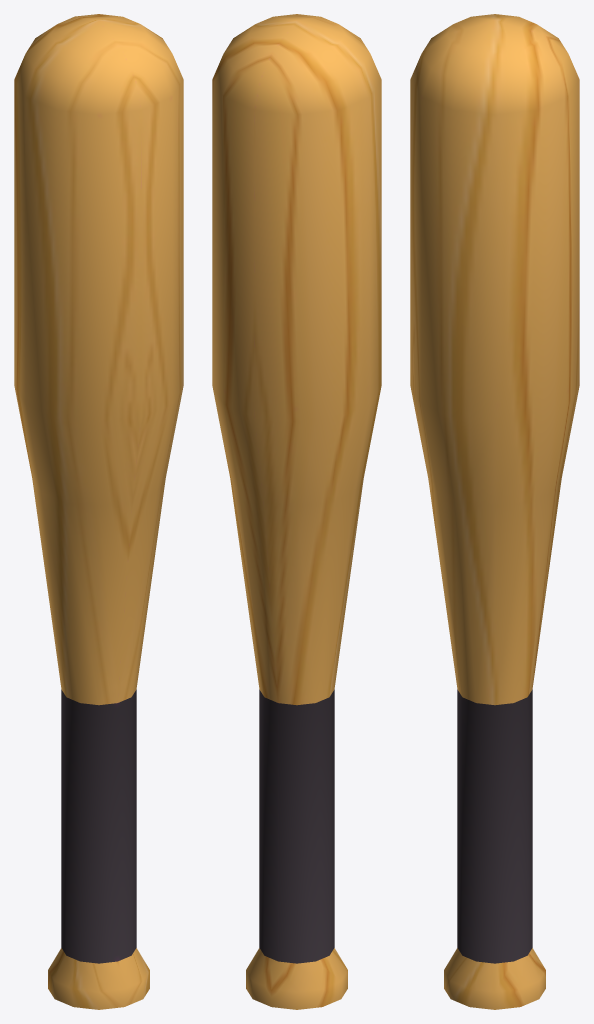
Rendered from weapon03.fbx.
3 views of the same model, side by side, from view 1: azimuth 30°, elevation 25°; view 2: azimuth 150°, elevation 25°; view 3: azimuth 270°, elevation 25° (orthographic).
Visible parts, largest first — view 1: huggy03 weapon01; view 2: huggy03 weapon01; view 3: huggy03 weapon01.
Boxes of the visible parts, <box> form: huggy03 weapon01: <box>14,14,183,1009</box>; huggy03 weapon01: <box>212,14,381,1009</box>; huggy03 weapon01: <box>410,14,579,1009</box>.
Size of the model in its own units: 0.1246 by 0.787 by 0.1246.
